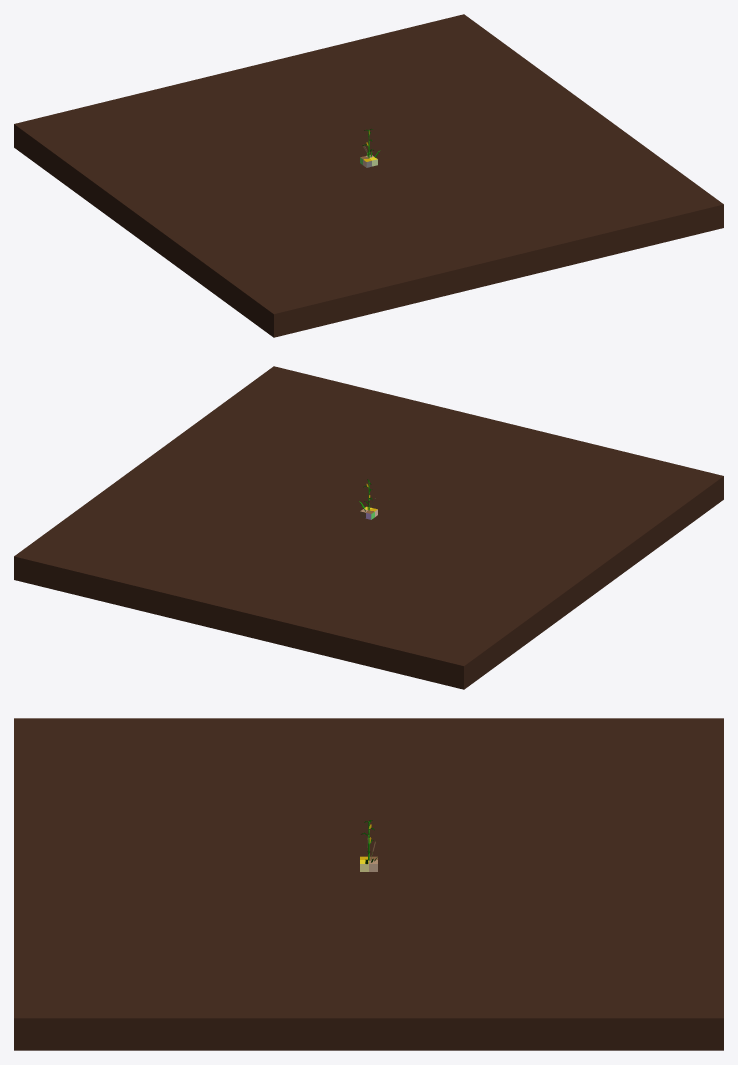
File: corn.gltf
3 views of the same model, one above another, from view 1: azimuth 30°, elevation 25°; view 2: azimuth 150°, elevation 25°; view 3: azimuth 270°, elevation 25° (orthographic). The views are drawn at different scales.
Visible parts, largest first — view 1: groundplane; view 2: groundplane; view 3: groundplane.
Boxes of the visible parts, <box> form: groundplane: <box>14,14,723,337</box>; groundplane: <box>14,366,723,689</box>; groundplane: <box>14,718,723,1050</box>.
Bounding box in the file's own units: 40 × 5.01 × 40.
Materials: 1 (1 with a texture image).
